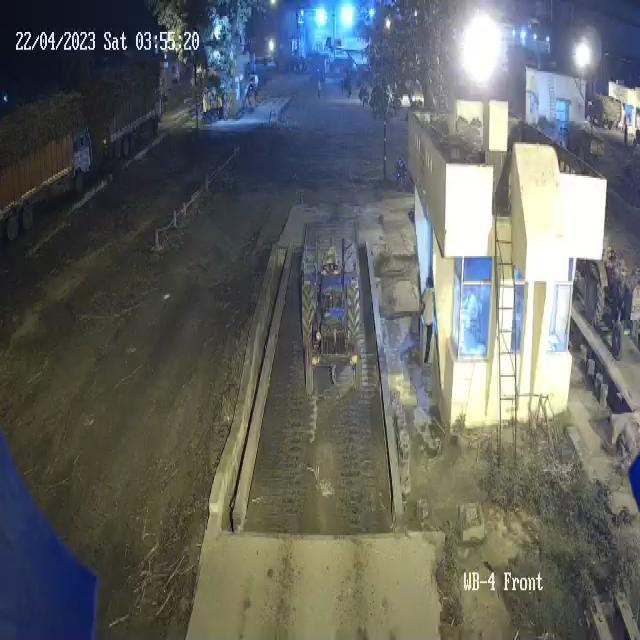Tratores - v5 YOLO V8L 2024-11-13: (296, 253, 374, 404)
